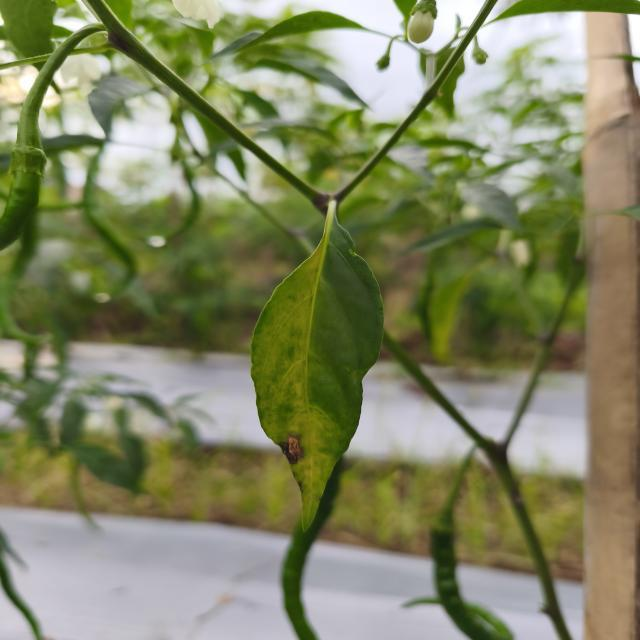Virus Kuning: (248, 198, 386, 532)
